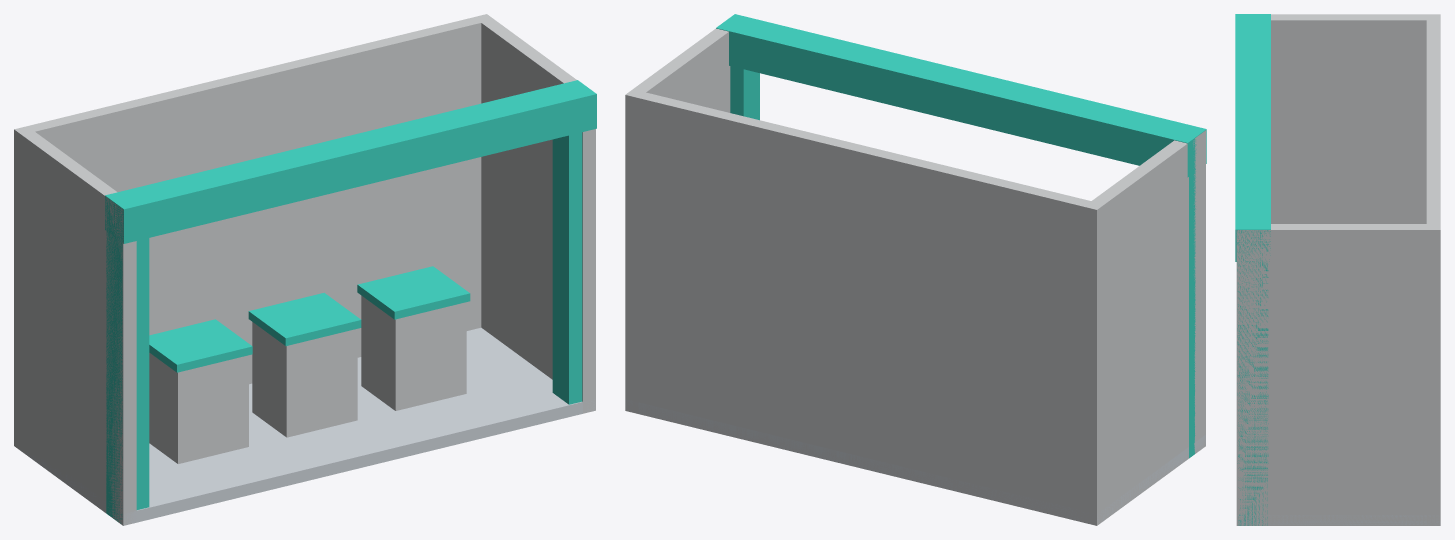
3 renders of one model, left to right at view 1: azimuth 30°, elevation 25°; view 2: azimuth 150°, elevation 25°; view 3: azimuth 270°, elevation 25°, orthographic. The views are drawn at different scales.
Visible parts, largest first — view 1: Exhibition Booth Concept; view 2: Exhibition Booth Concept; view 3: Exhibition Booth Concept.
Boxes of the visible parts, left/top/right/bottom form: Exhibition Booth Concept: left=14, top=14, right=596, bottom=525; Exhibition Booth Concept: left=625, top=14, right=1206, bottom=525; Exhibition Booth Concept: left=1235, top=14, right=1440, bottom=525.
Size of the model in its own units: 5 by 3.2 by 2.01.
